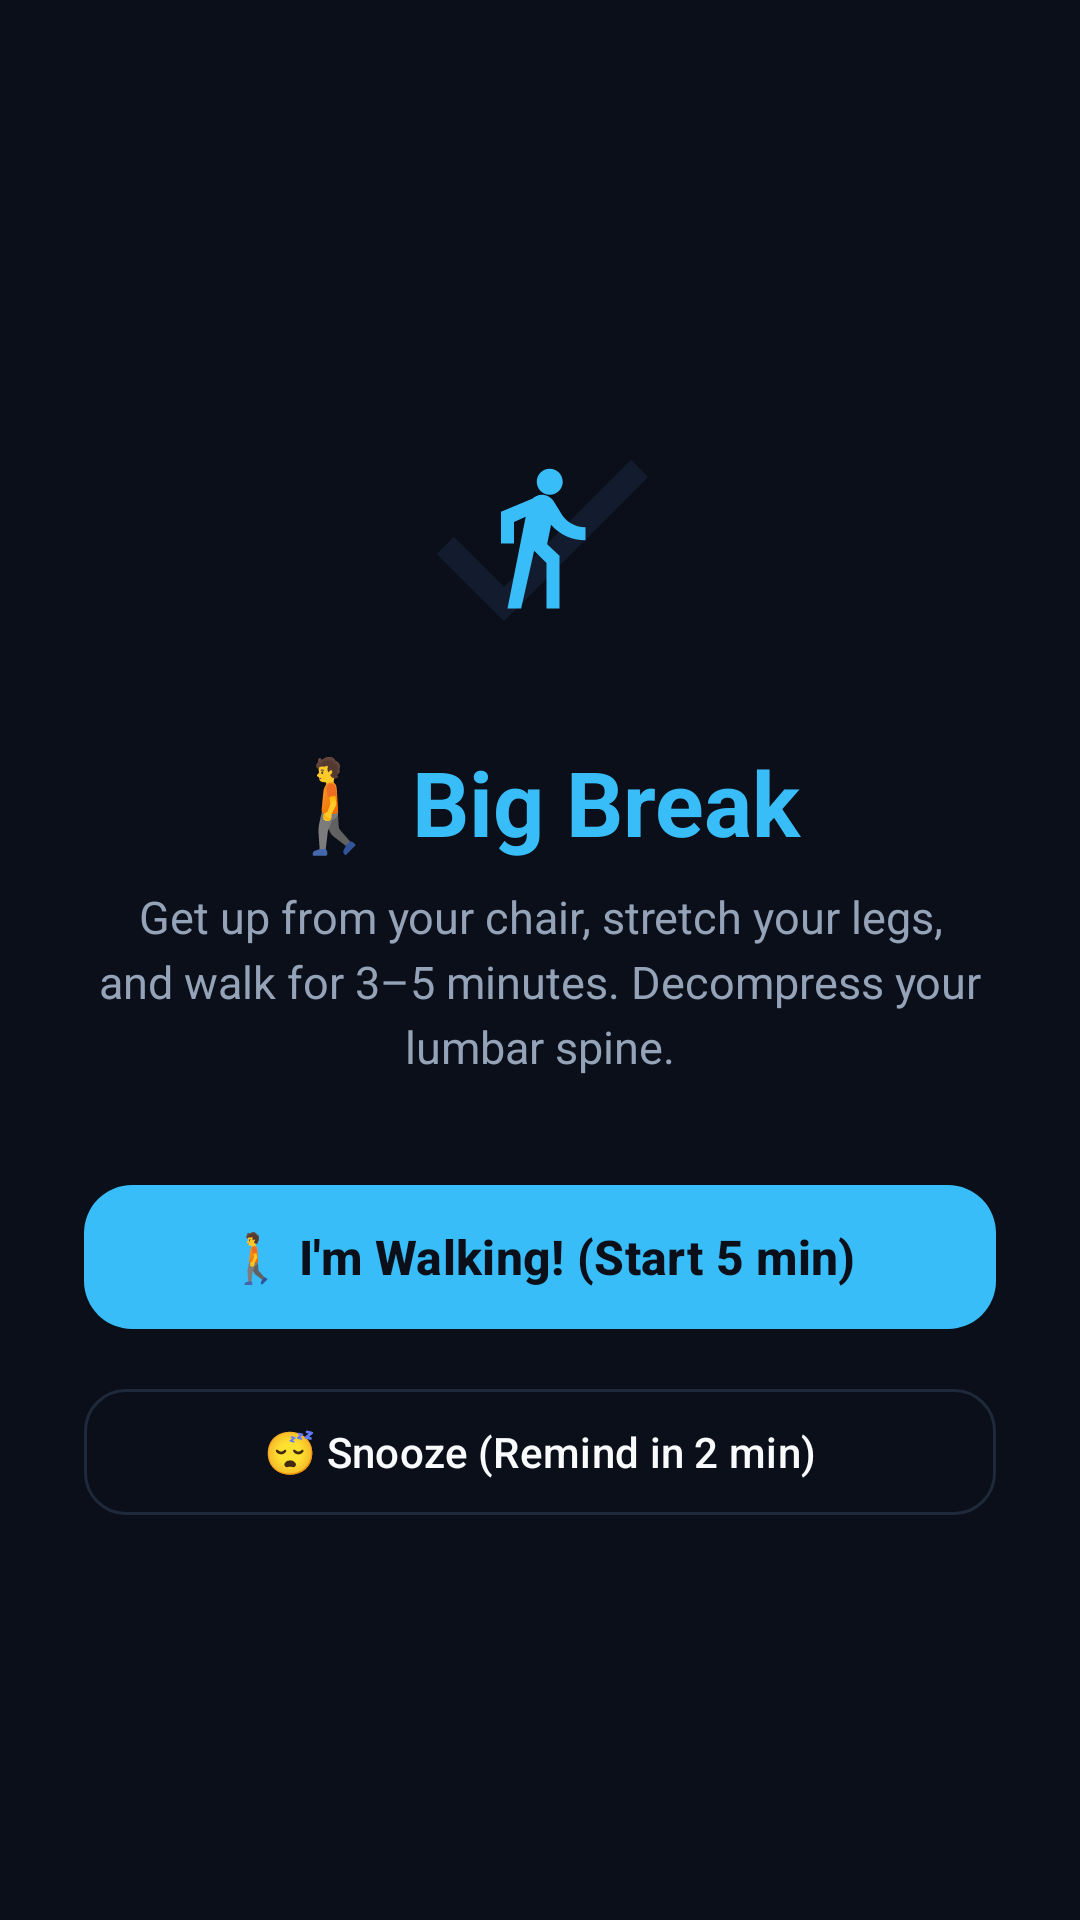

Locate icon controls on the screen. Image size 1080×1920, boxes as (x1, y1, x2, y2).
Walk icon: (501, 468, 586, 609)
